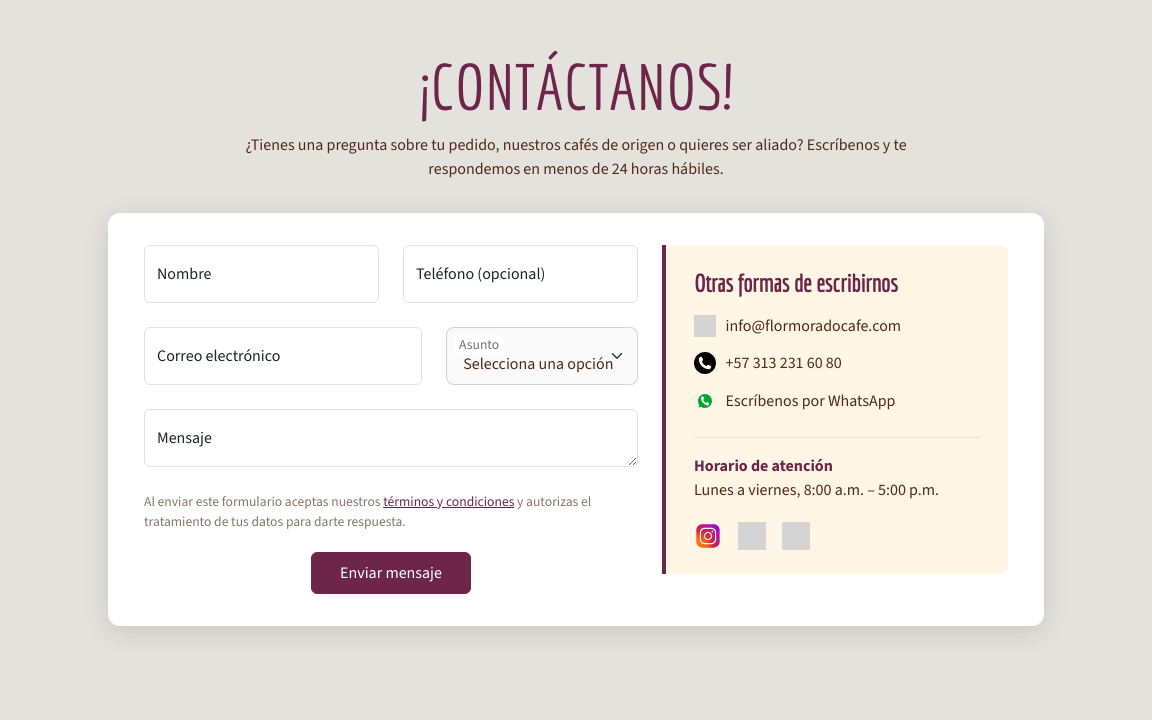
Test: Contact › avisa cuando el servicio no responde
Type "María" into the field labelled "Nombre".
click(262, 274); type("María")  # box [144,245,379,303]
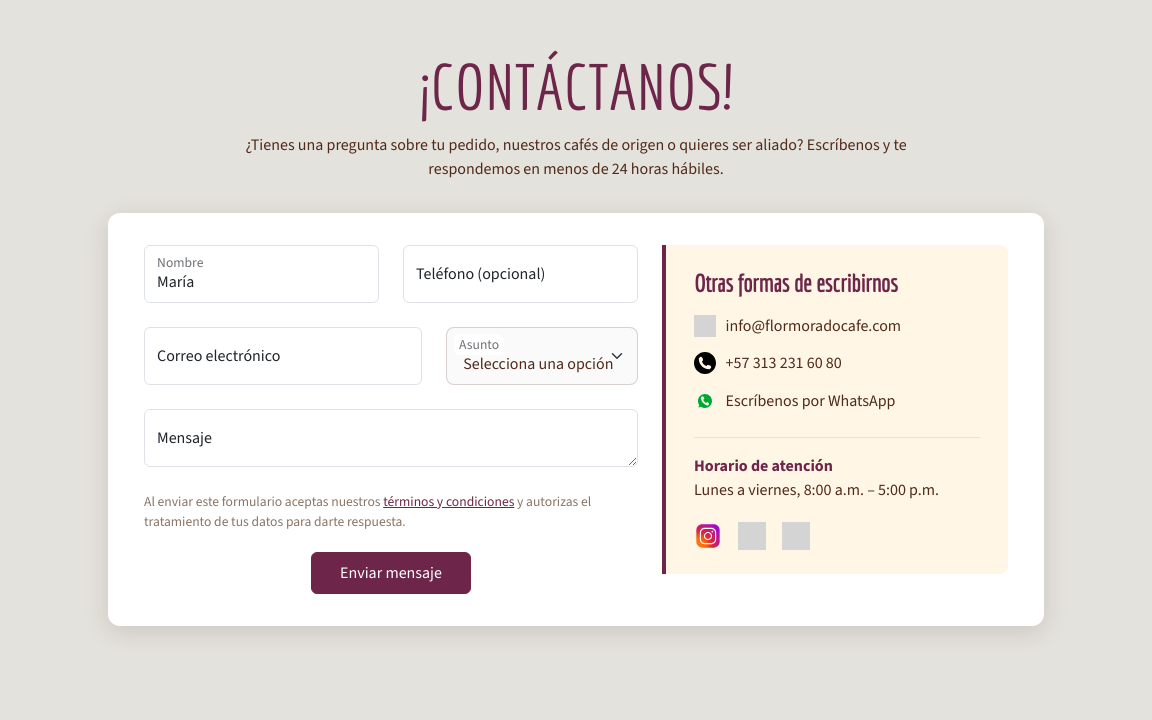
Type "maria@example.com" into the field labelled "Correo electrónico".
click(283, 356); type("maria@example.com")  # box [144,327,422,385]
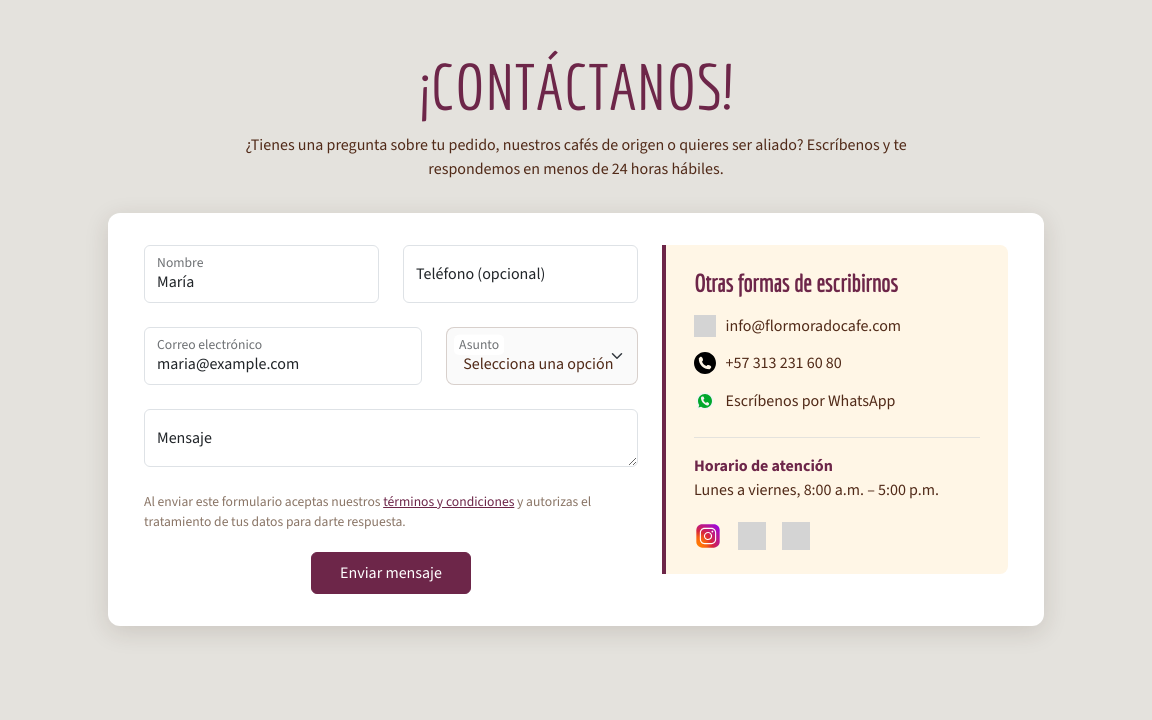
Select "Preguntas sobre un producto" in the dropdown labelled "Asunto" at (542,356), box [446,327,638,385]
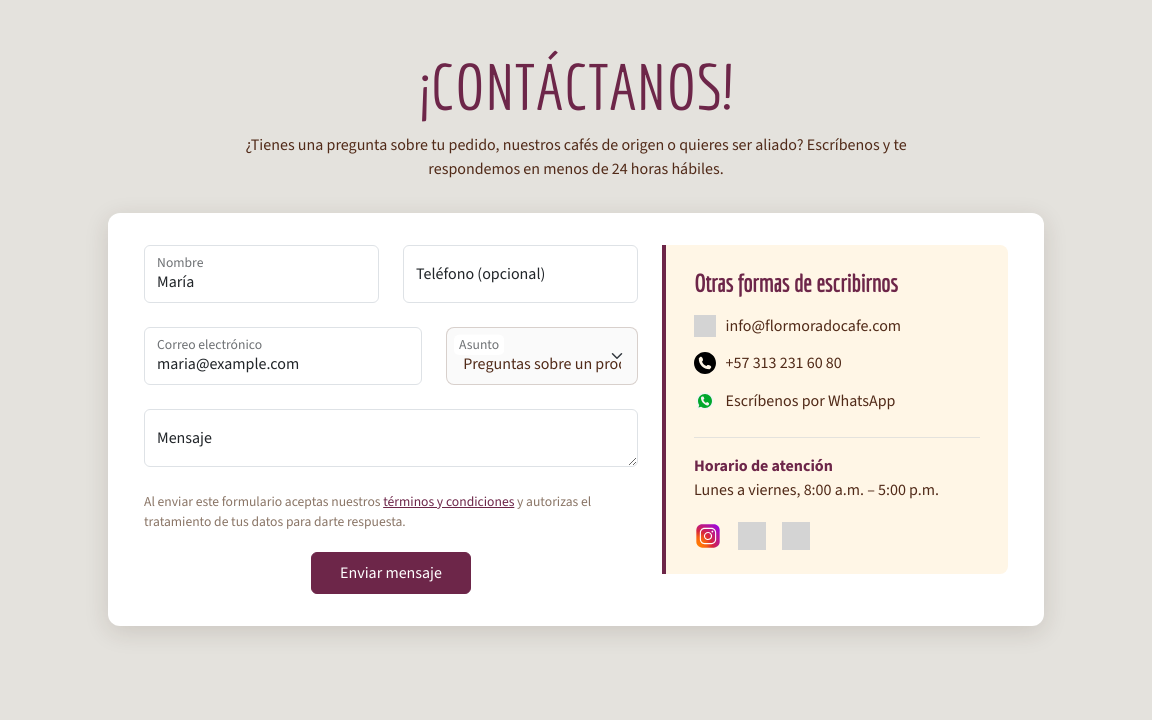
Type "¿Este café es apto para prensa francesa?" into the text box labelled "Mensaje".
click(391, 438); type("¿Este café es apto para prensa francesa?")  # box [144,409,638,467]
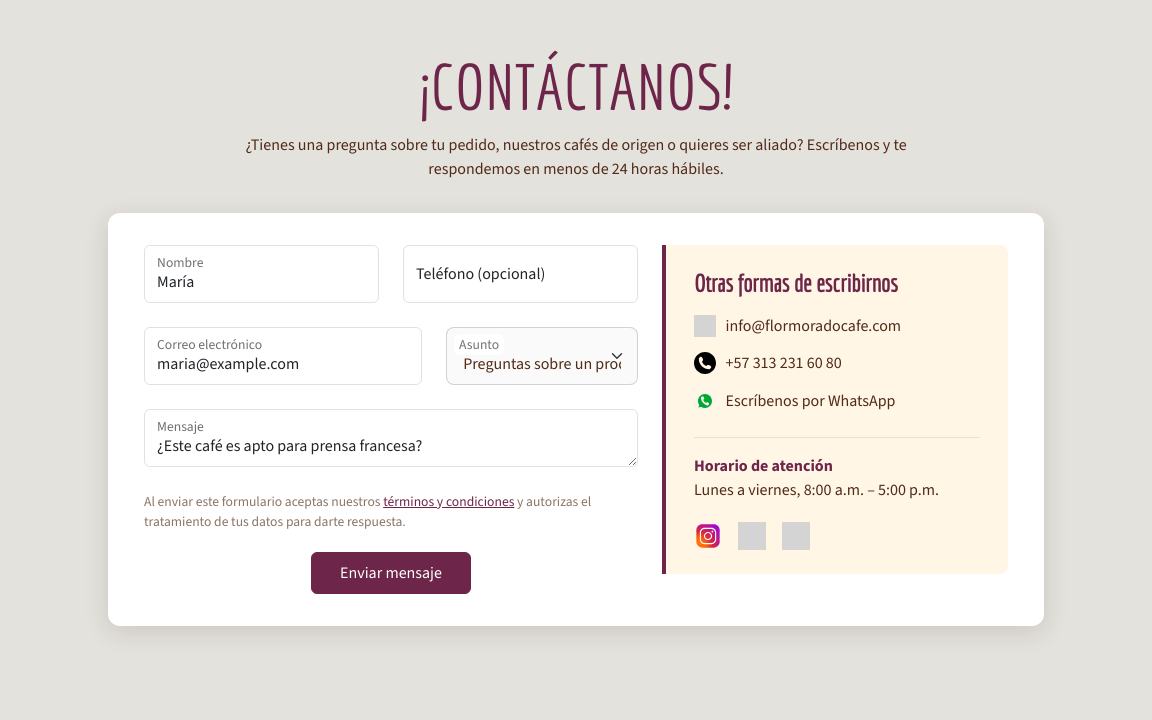
Click the button "Enviar mensaje".
click(391, 573)  # box [311,552,471,594]
Wait 5000 ms
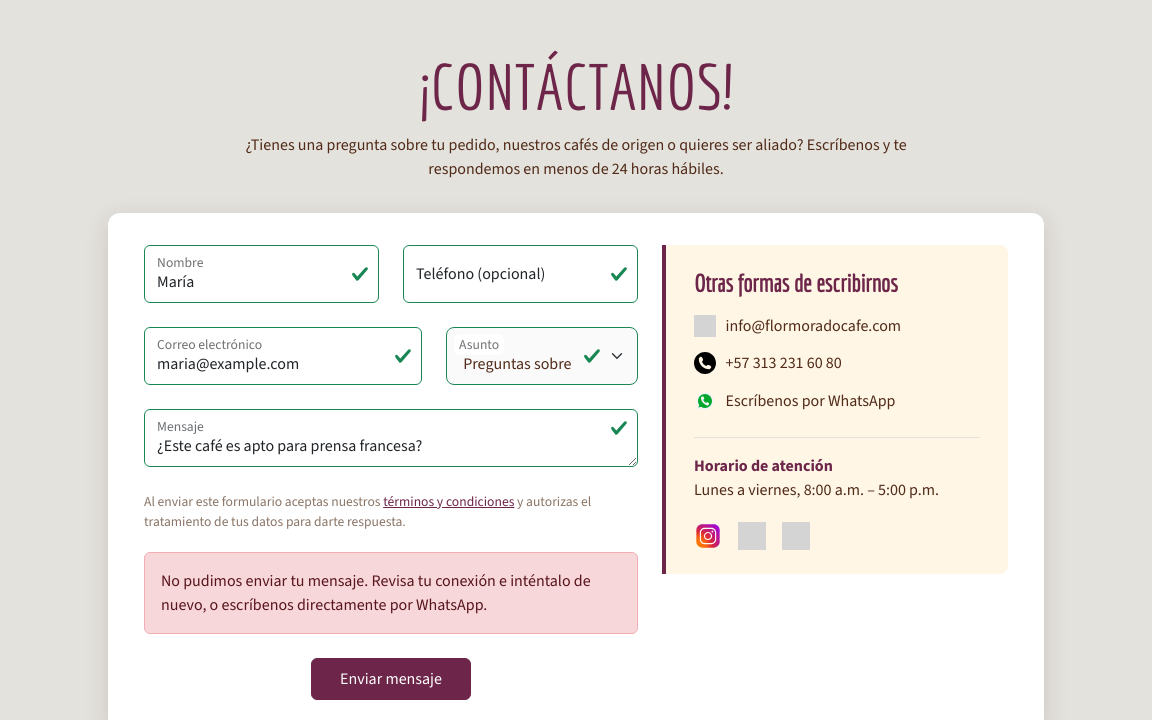
Result: the text "No pudimos enviar tu mensaje" is shown at [161,570,591,615]
